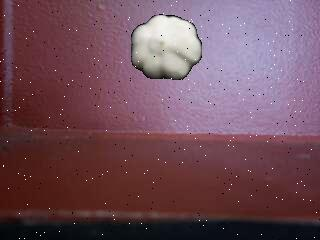Garlic: (130, 15, 202, 82)
